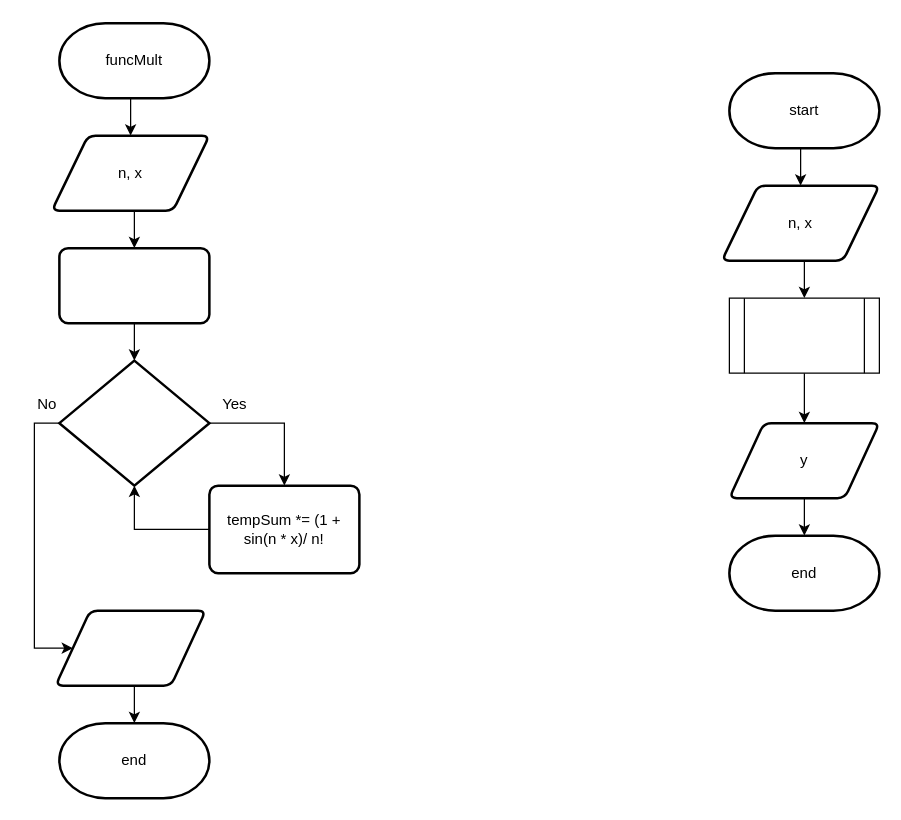
Image size: 901x820. Some labels were removed from this diagram. Here are the shapes that lost their labels. From the top down, the box of each, then its label:
(58, 246, 210, 324): tempSum = 0
(728, 297, 879, 373): y = funcMult(n, x)
(58, 359, 210, 486): i = 1; i <= n; i += 1
(54, 609, 206, 686): tempSumy
